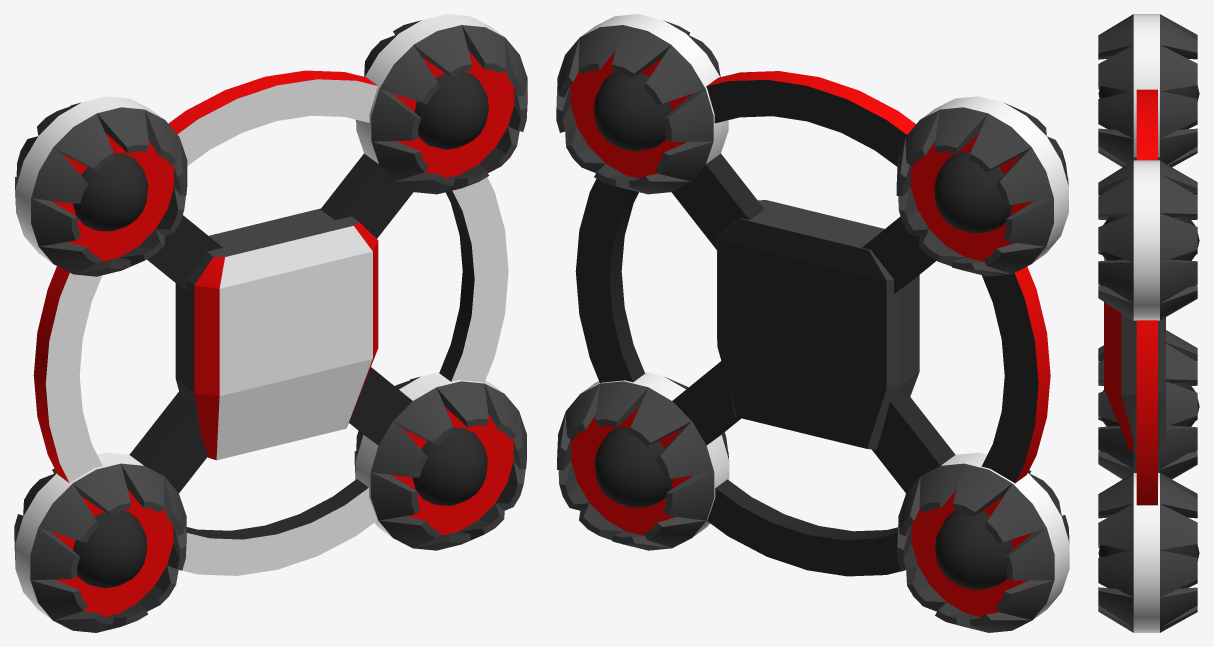
File: sensorDrone.obj
3 renders of one model, left to right at view 1: azimuth 30°, elevation 25°; view 2: azimuth 150°, elevation 25°; view 3: azimuth 270°, elevation 25°, orthographic. The views are drawn at different scales.
Parts seen in each view (by area): view 1: Box001, Tube001, Cylinder035, Cylinder033, Cylinder032, Cylinder034, Sphere002, Sphere003, Sphere004, Sphere001; view 2: Box001, Tube001, Cylinder035, Cylinder033, Cylinder032, Cylinder034, Sphere003, Sphere001, Sphere002, Sphere004; view 3: Cylinder033, Cylinder034, Cylinder032, Cylinder035, Tube001, Box001, Sphere003, Sphere001, Sphere002, Sphere004.
Boxes of the visible parts, x1,y1,x2,y2 form: Box001: (175,208,378,460); Tube001: (33,70,508,575); Cylinder035: (14,391,208,632); Cylinder033: (320,14,527,238); Cylinder032: (15,96,222,290); Cylinder034: (349,367,526,550); Sphere002: (414,72,488,149); Sphere003: (412,427,487,505); Sphere004: (73,510,147,588); Sphere001: (73,153,148,231); Box001: (717,200,919,449); Tube001: (575,71,1050,576); Cylinder035: (872,394,1069,632); Cylinder033: (556,14,764,250); Cylinder032: (862,96,1068,293); Cylinder034: (557,361,740,550); Sphere003: (594,426,673,507); Sphere001: (934,152,1012,233); Sphere002: (593,72,671,151); Sphere004: (935,510,1012,590); Cylinder033: (1098,160,1197,320); Cylinder034: (1098,405,1197,632); Cylinder032: (1098,14,1197,167); Cylinder035: (1098,330,1197,479); Tube001: (1136,89,1157,505); Box001: (1104,258,1165,451); Sphere003: (1098,544,1199,560); Sphere001: (1098,85,1199,101); Sphere002: (1101,216,1199,260); Sphere004: (1101,382,1199,426).
Bounding box in the file's own units: 2.06 × 2.06 × 0.4141.
